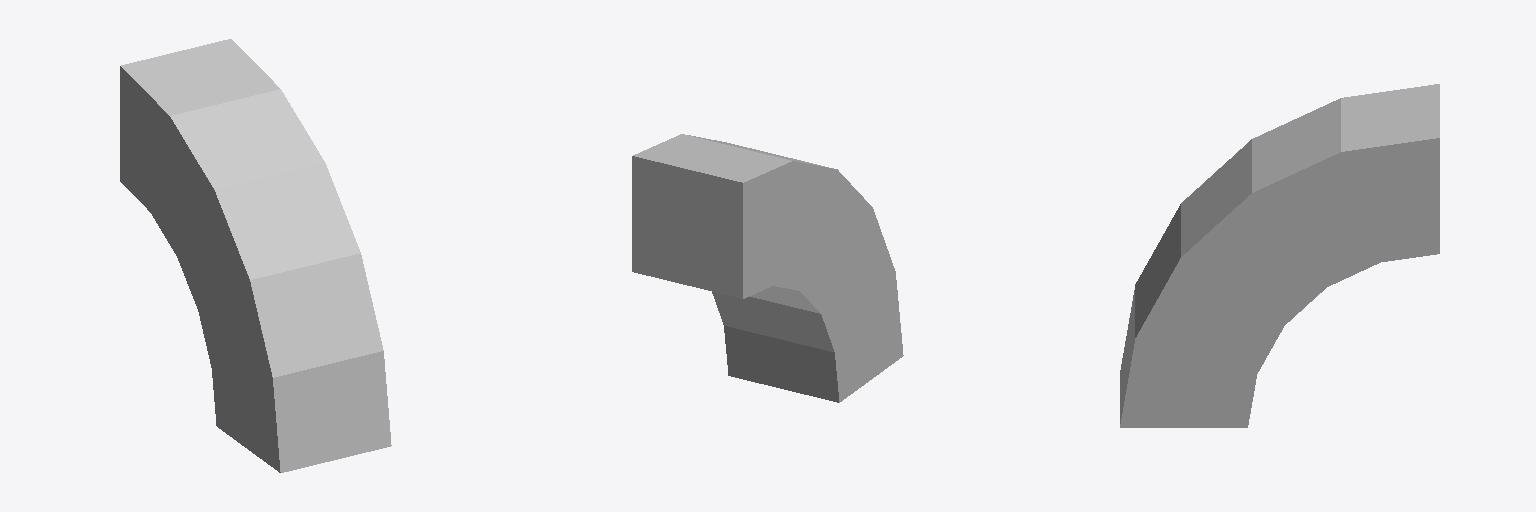
Rendered from Light20.obj.
3 renders of one model, left to right at view 1: azimuth 30°, elevation 25°; view 2: azimuth 150°, elevation 25°; view 3: azimuth 270°, elevation 25°, orthographic.
Bounding box in the file's own units: 0.25 × 0.625 × 0.625.